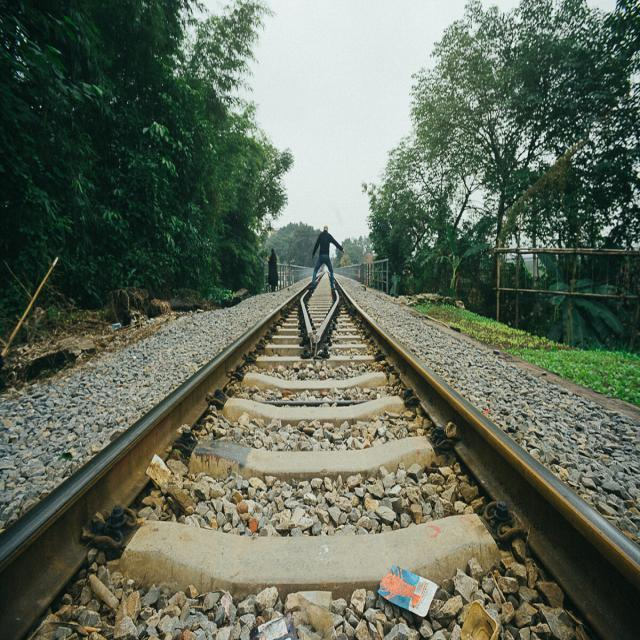people: (309, 222, 341, 300), (262, 245, 284, 292)
